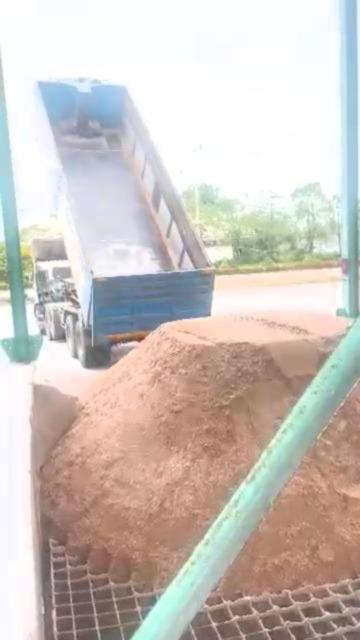sand: (44, 312, 346, 585), (223, 388, 360, 594), (31, 372, 80, 471)
